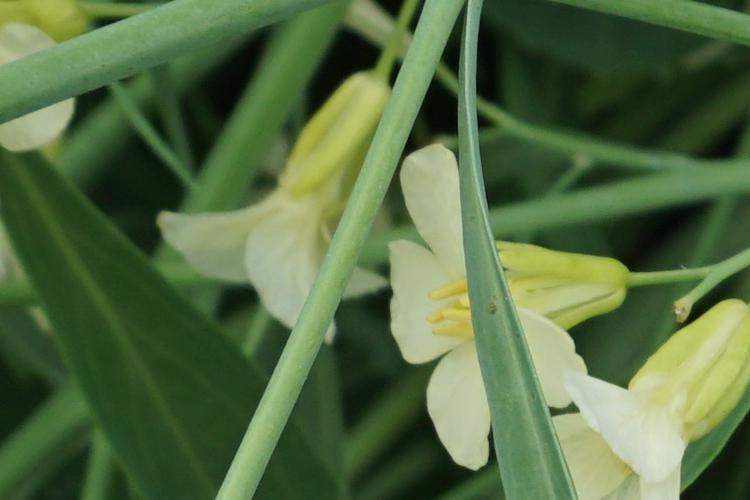white: (391, 146, 652, 447), (193, 68, 404, 361), (589, 303, 750, 498)
